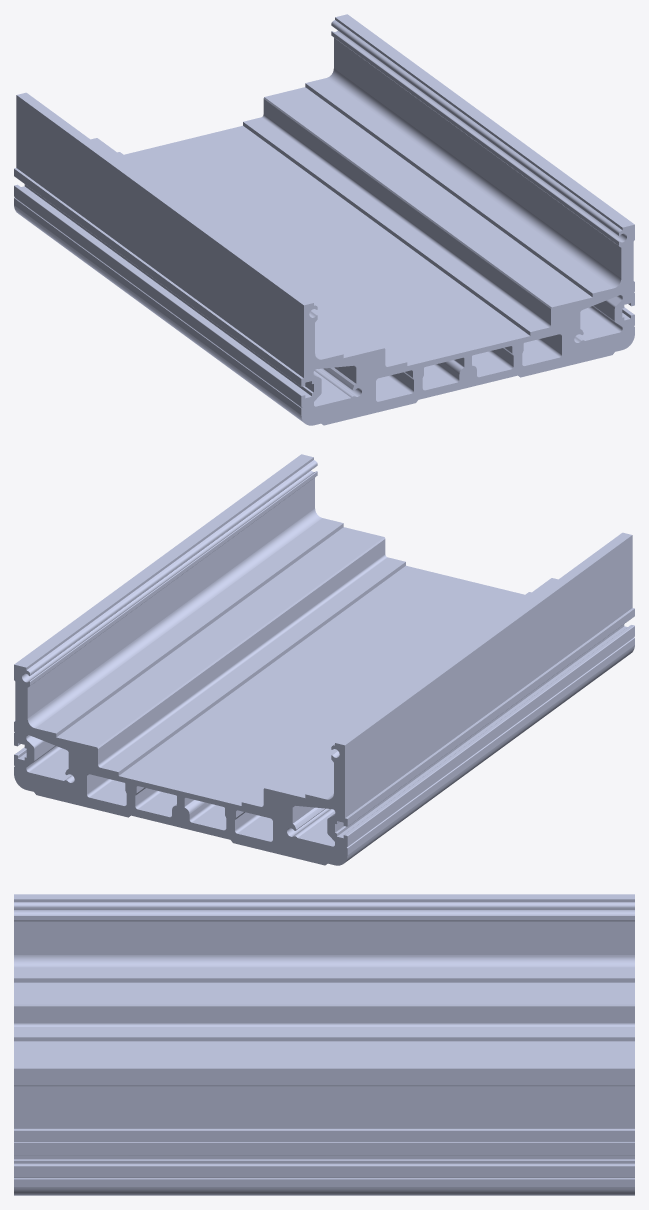
The picture shows the model from 3 angles, top to bottom: view 1: azimuth 30°, elevation 25°; view 2: azimuth 150°, elevation 25°; view 3: azimuth 270°, elevation 25°; orthographic projection. The views are drawn at different scales.
Visible parts, largest first — view 1: empty_2; view 2: empty_2; view 3: empty_2.
Part boxes in pixels (box(x1,y1,x2,y2)): empty_2: box(14, 14, 634, 425); empty_2: box(14, 454, 634, 865); empty_2: box(14, 894, 634, 1195).
Size of the model in its own units: 134 by 48 by 200.
